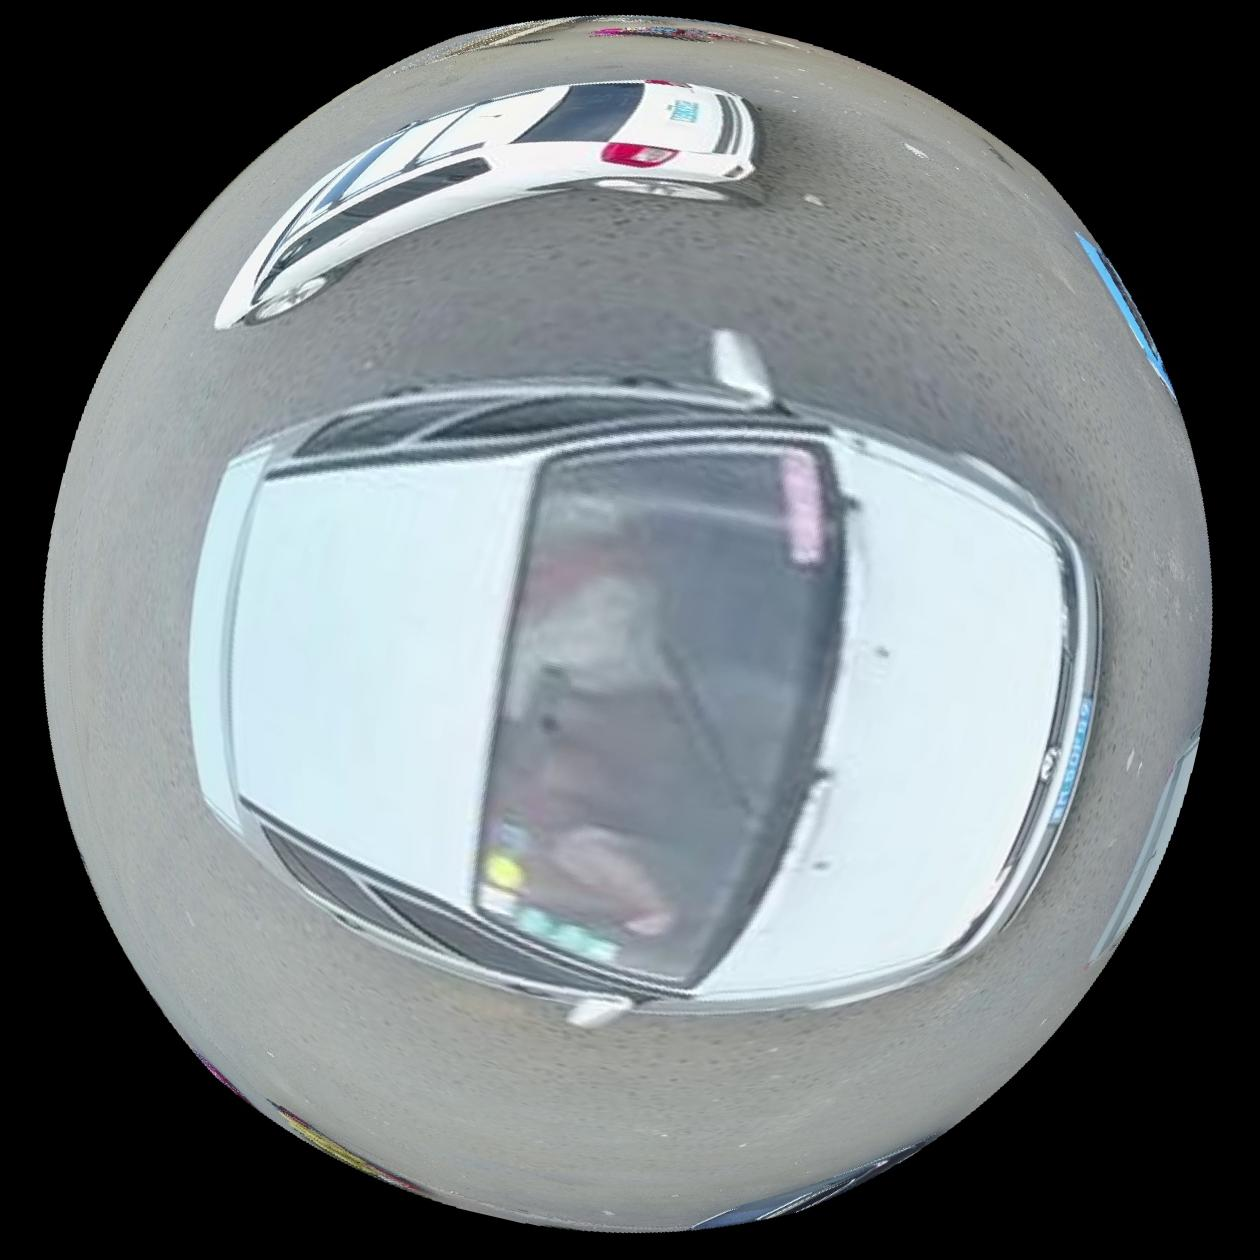cars: (188, 327, 1098, 1027), (213, 76, 757, 327)
